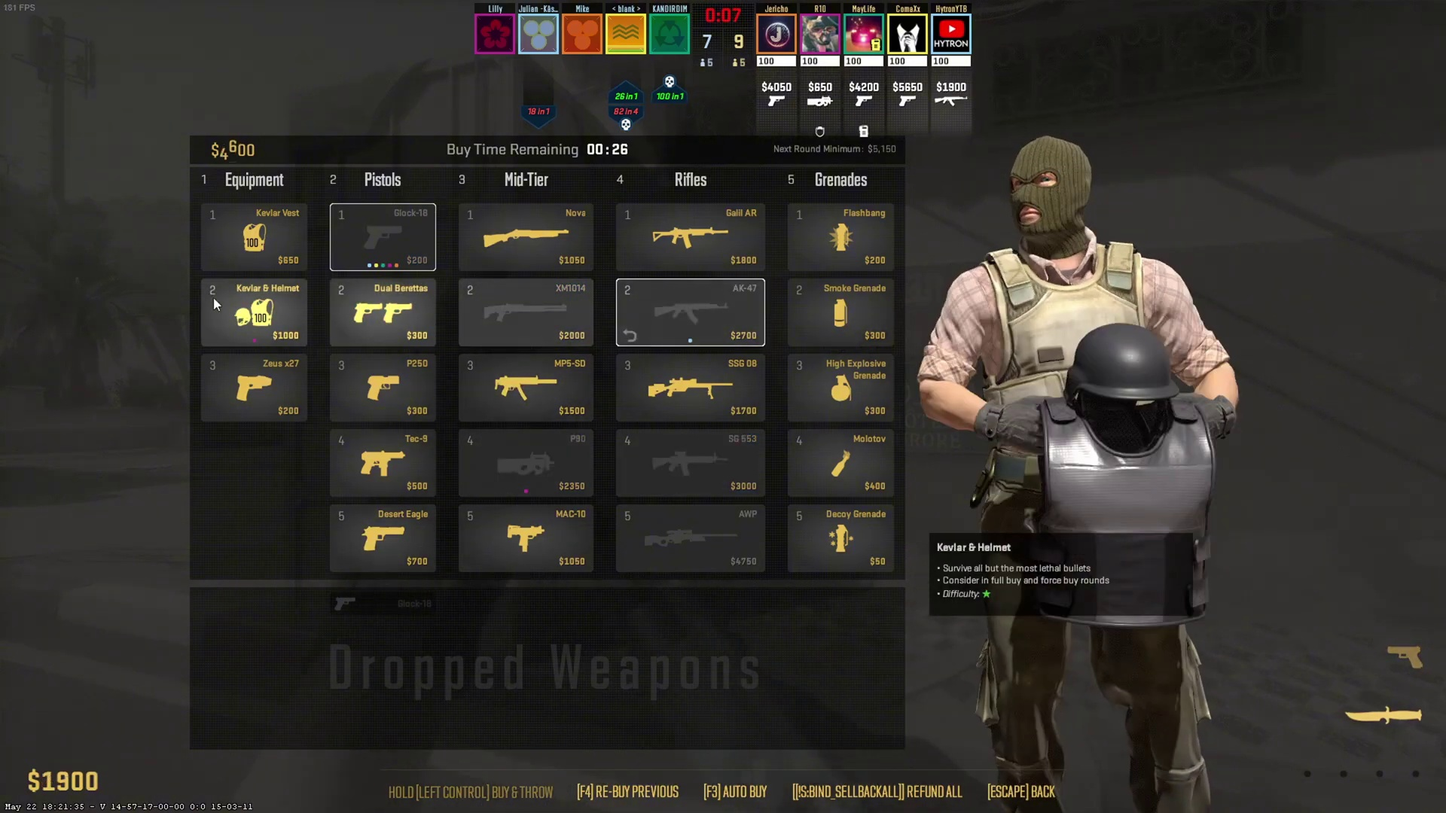Terrorist: (974, 137, 1217, 810)
